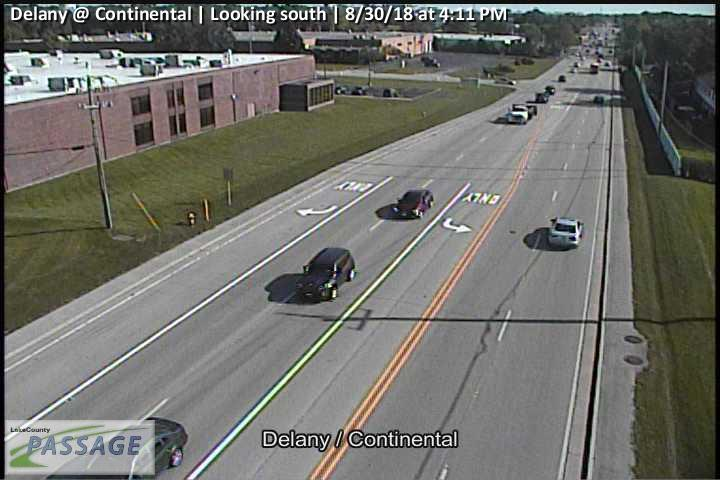SUV: (296, 249, 356, 303), (507, 104, 528, 123)
Sedan: (40, 416, 188, 480), (392, 189, 434, 218), (550, 217, 584, 246)
